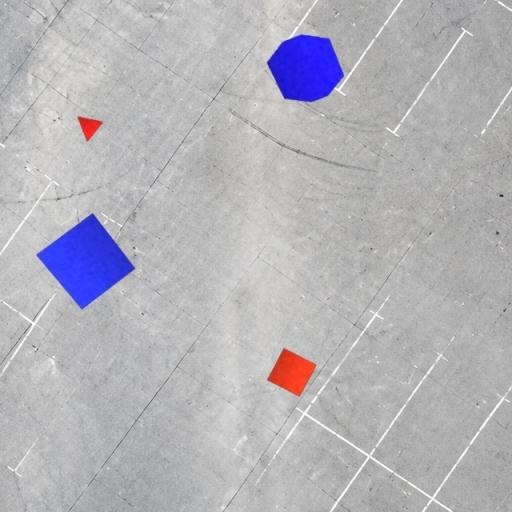BLUE_SQUARE: (36, 212, 136, 310)
RED_SQUARE: (266, 347, 318, 397)
